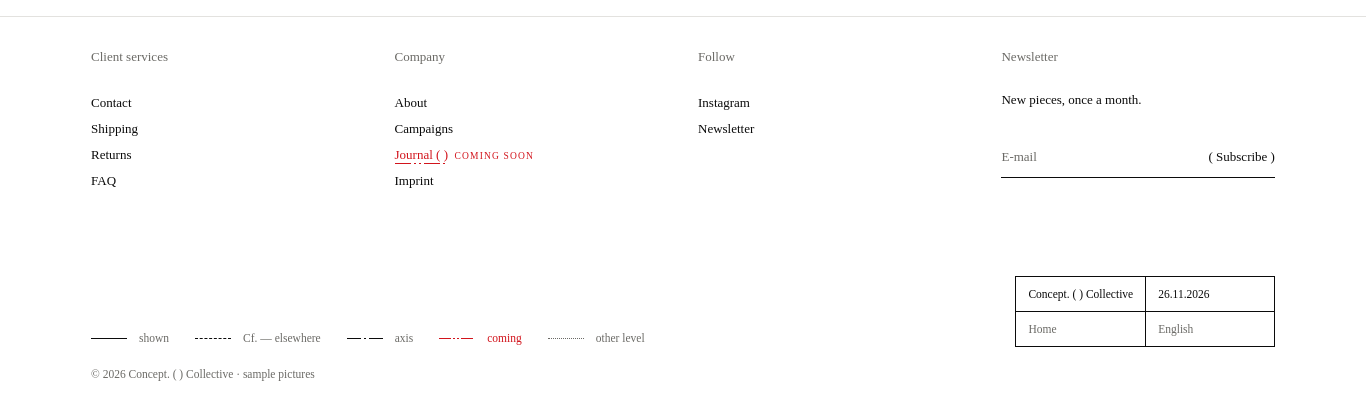
it: Newsletter form › opens the button again when the request fails
The image size is (1366, 398).
Type "someone@example.com" into the field with placeholder "E-mail".
click(1099, 157); type("someone@example.com")  # box [1002,136,1196,177]
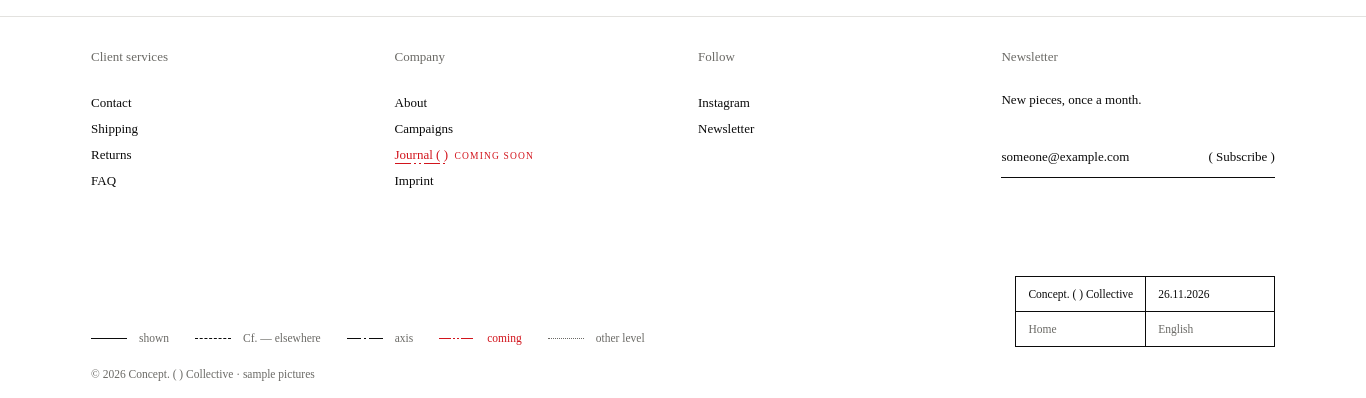
Click the button "( Subscribe )".
click(1236, 157)  # box [1196,136,1275,177]
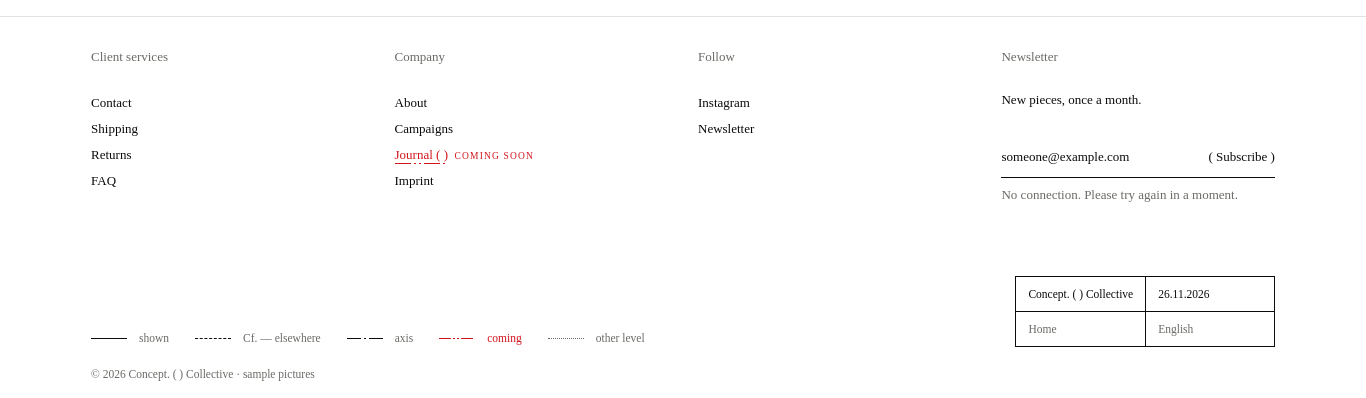
Expected: the message reads "No connection. Please try again in a moment.", [1002,187,1238,202]
